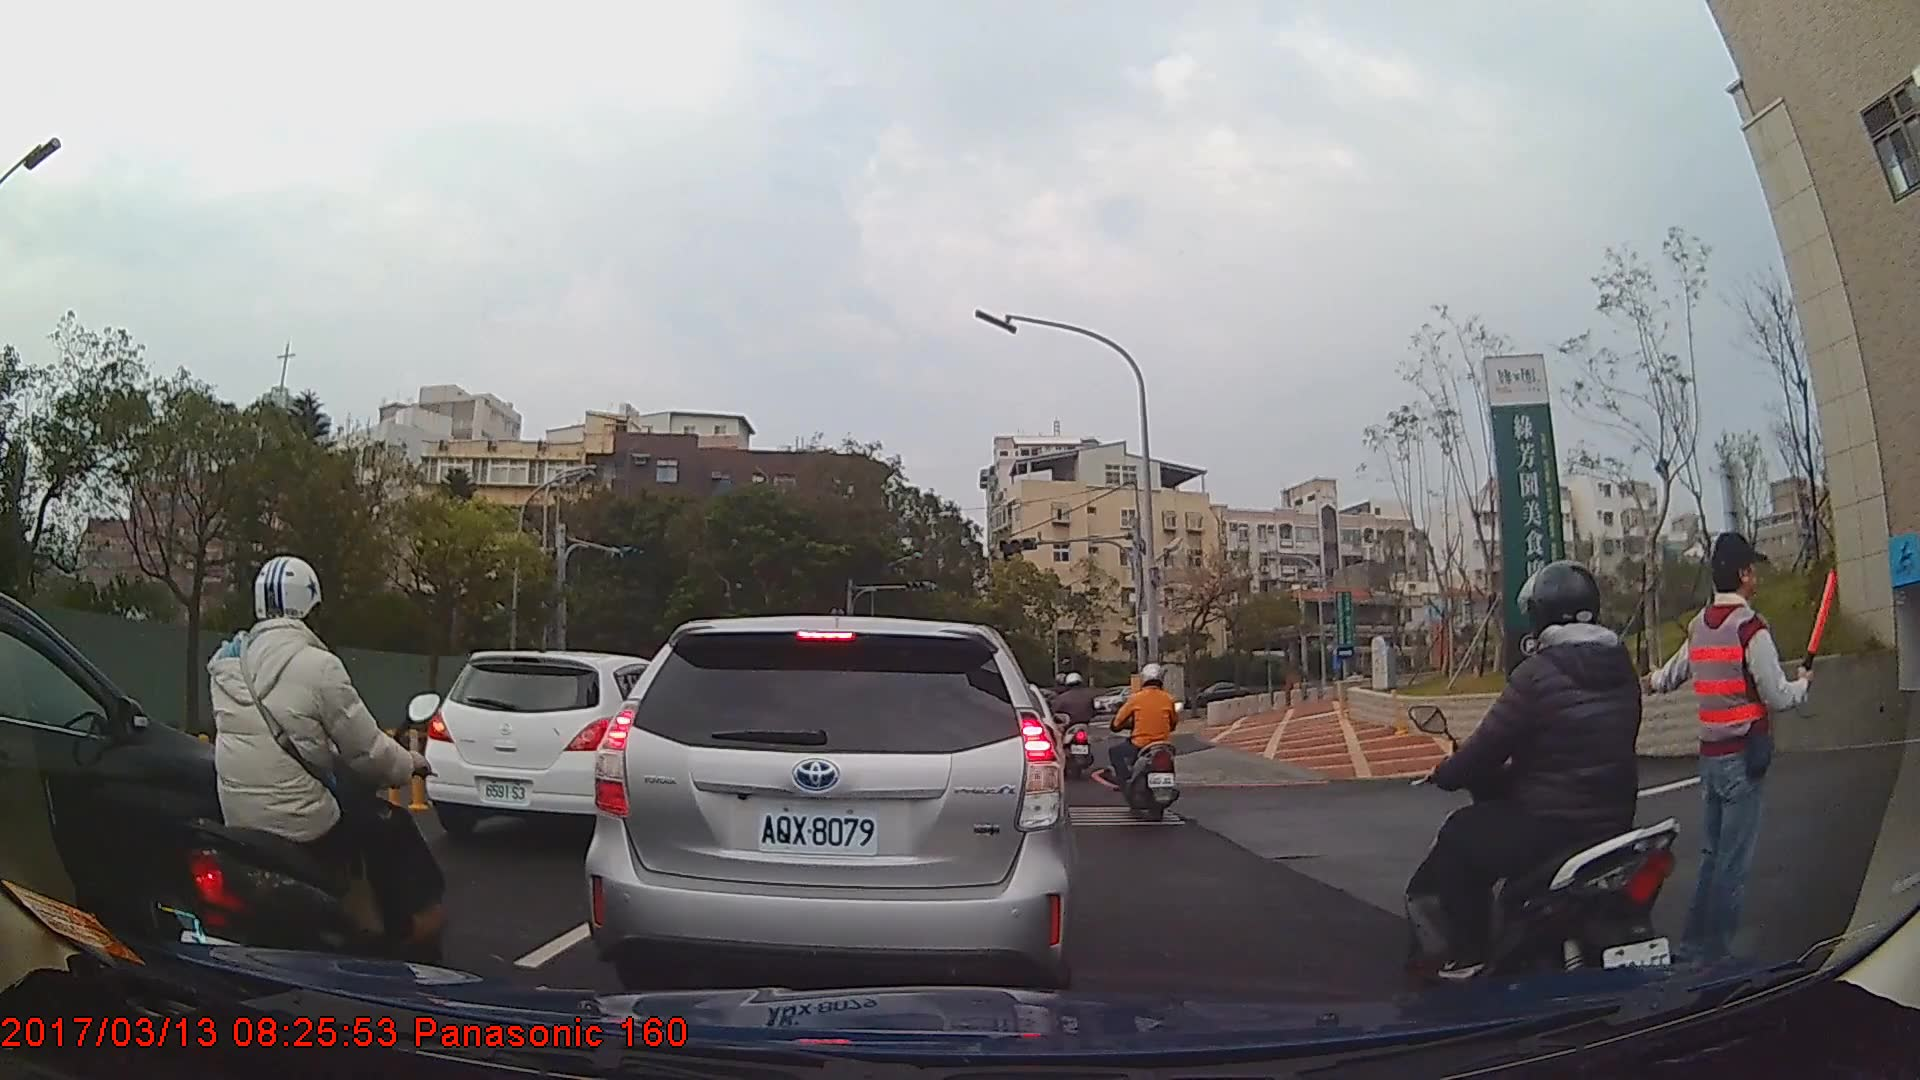pedestrian: (1635, 529, 1828, 983)
rider: (164, 555, 454, 1023), (1413, 563, 1702, 996), (1106, 657, 1187, 821), (1055, 668, 1100, 779)
vehicle: (579, 614, 1075, 989), (0, 587, 281, 952), (422, 649, 690, 841), (1183, 679, 1253, 716)
